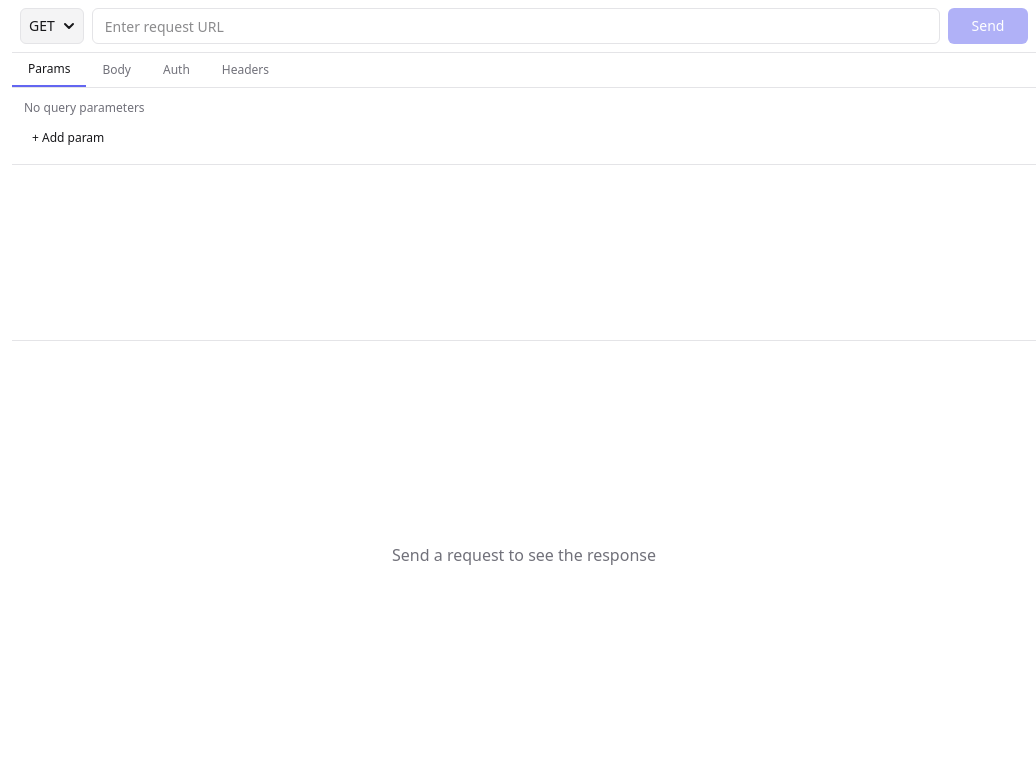
it: RequestPage › updates method in store when select changes
The width and height of the screenshot is (1036, 768).
Click the button "GET" at {"x": 52, "y": 26}, box x1=20 y1=8 x2=84 y2=44
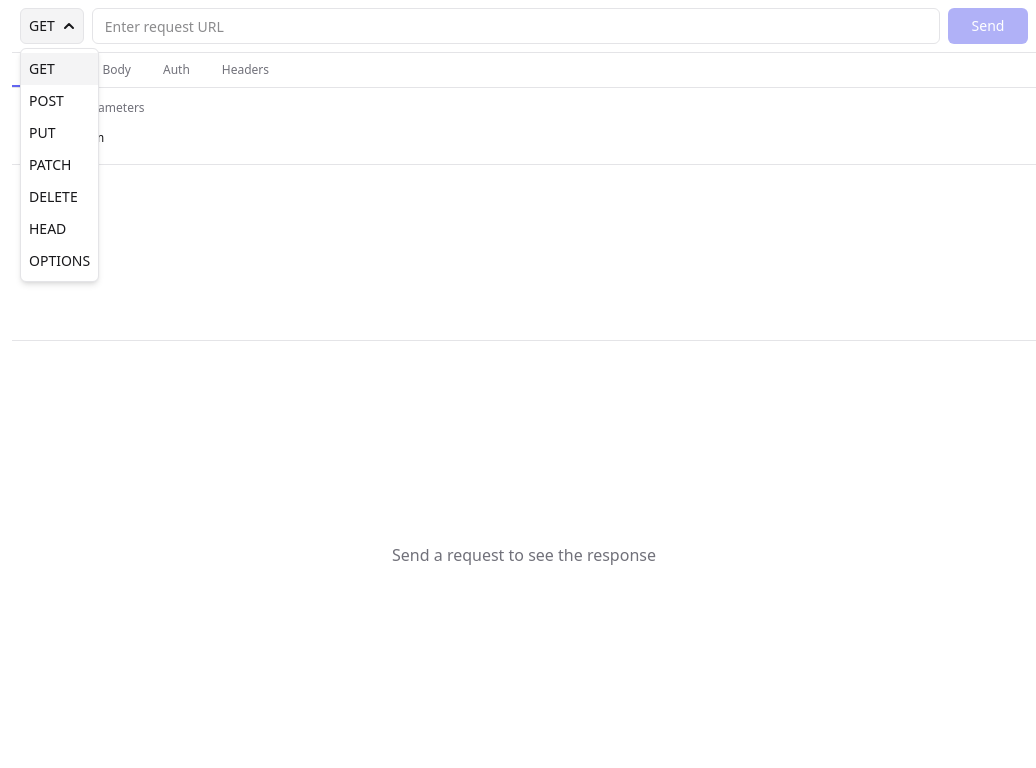
Click the option "POST" at {"x": 46, "y": 100}, box x1=29 y1=91 x2=64 y2=110
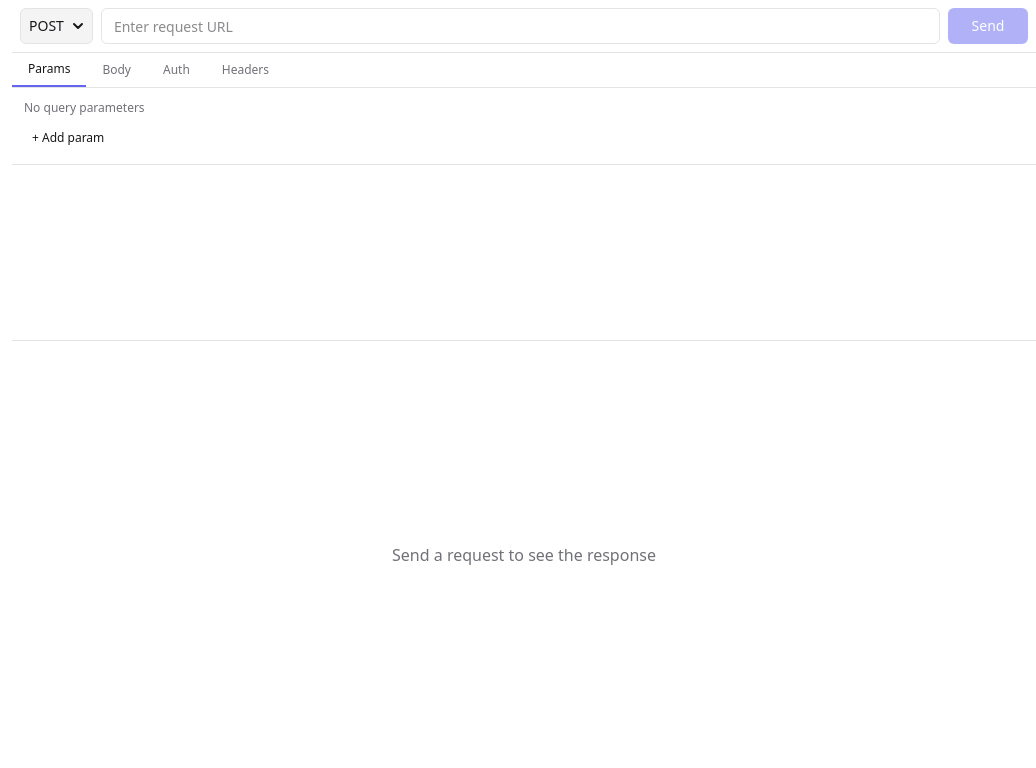
Expected: the text "POST" is shown, x1=29 y1=16 x2=64 y2=36
